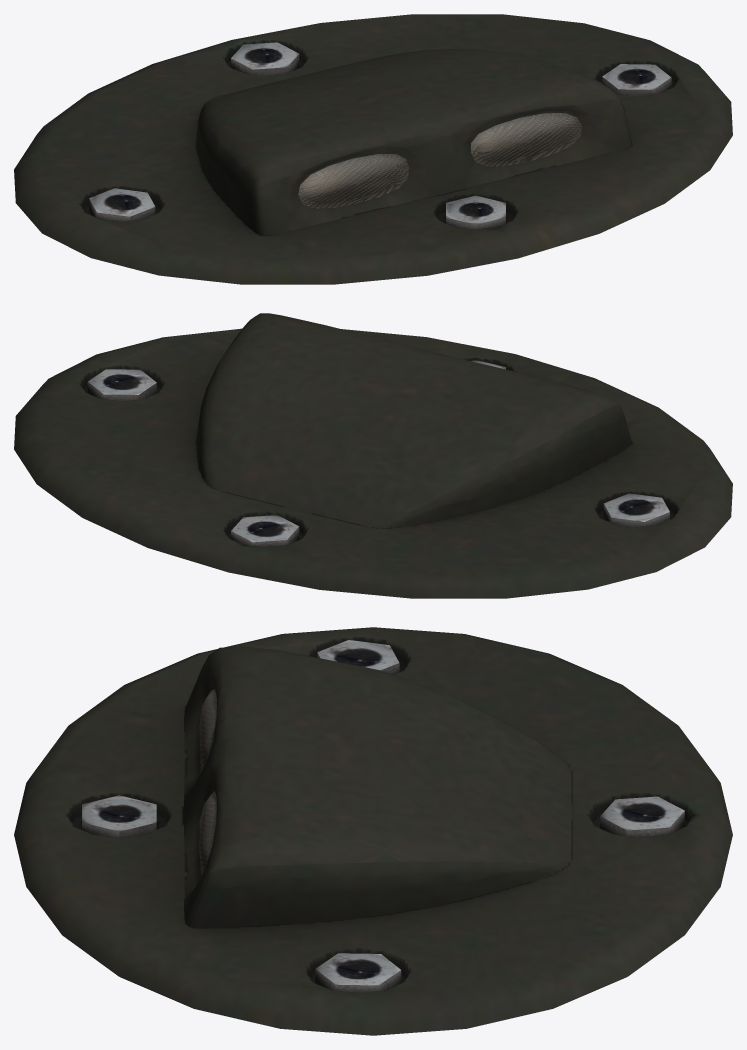
File: unterflurfeuer_aus.fbx
3 renders of one model, top to bottom at view 1: azimuth 30°, elevation 25°; view 2: azimuth 150°, elevation 25°; view 3: azimuth 270°, elevation 25°, orthographic. The views are drawn at different scales.
Visible parts, largest first — view 1: Mesh; view 2: Mesh; view 3: Mesh.
Part boxes in pixels (<box>): Mesh: <box>14,14,732,284</box>; Mesh: <box>14,313,732,598</box>; Mesh: <box>14,627,732,1035</box>.
Bounding box in the file's own units: 31.36 × 3.31 × 23.72.
